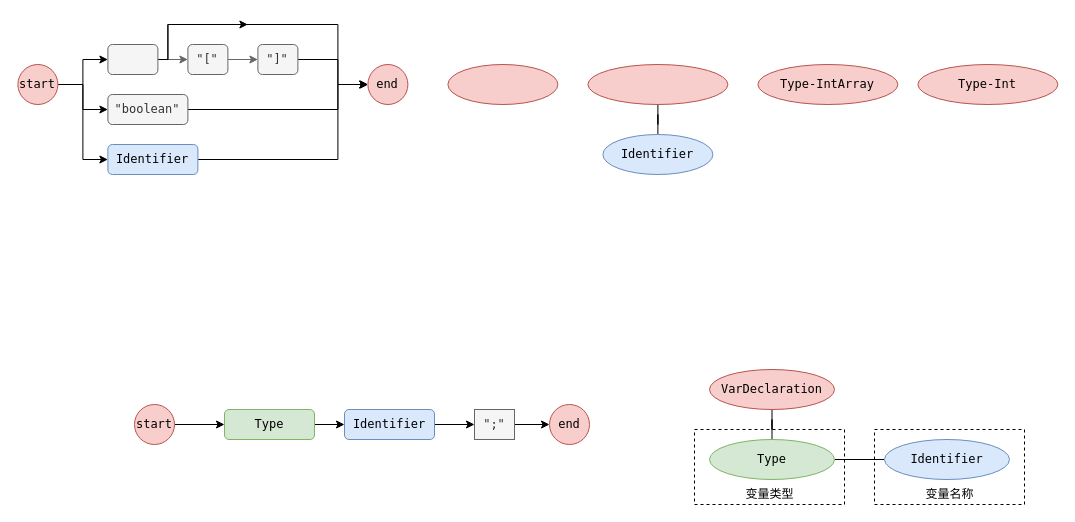
This 1075x522 diagram has some shape labels left out. The centre of each missing label's shape, as x and y in pixels:
"int": (x=132, y=59)
Type-boolean: (x=502, y=84)
Type-Identifier: (x=657, y=84)
